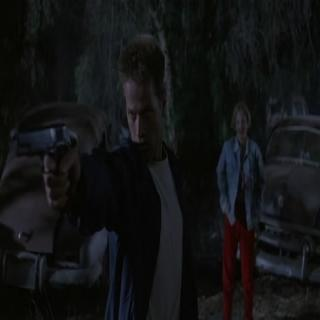gun: (9, 121, 76, 216)
